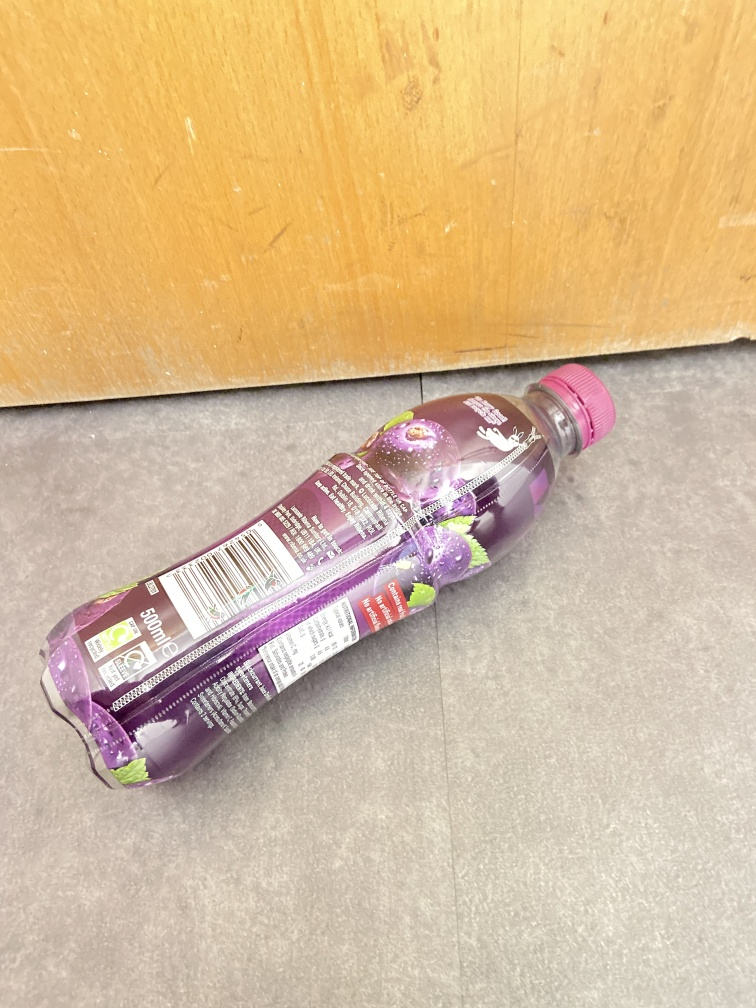bottle_purple: (36, 356, 621, 793)
